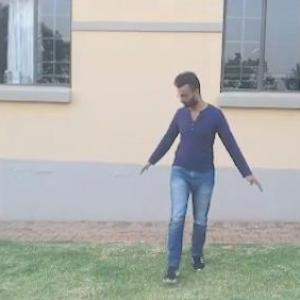land: (116, 58, 266, 282)
